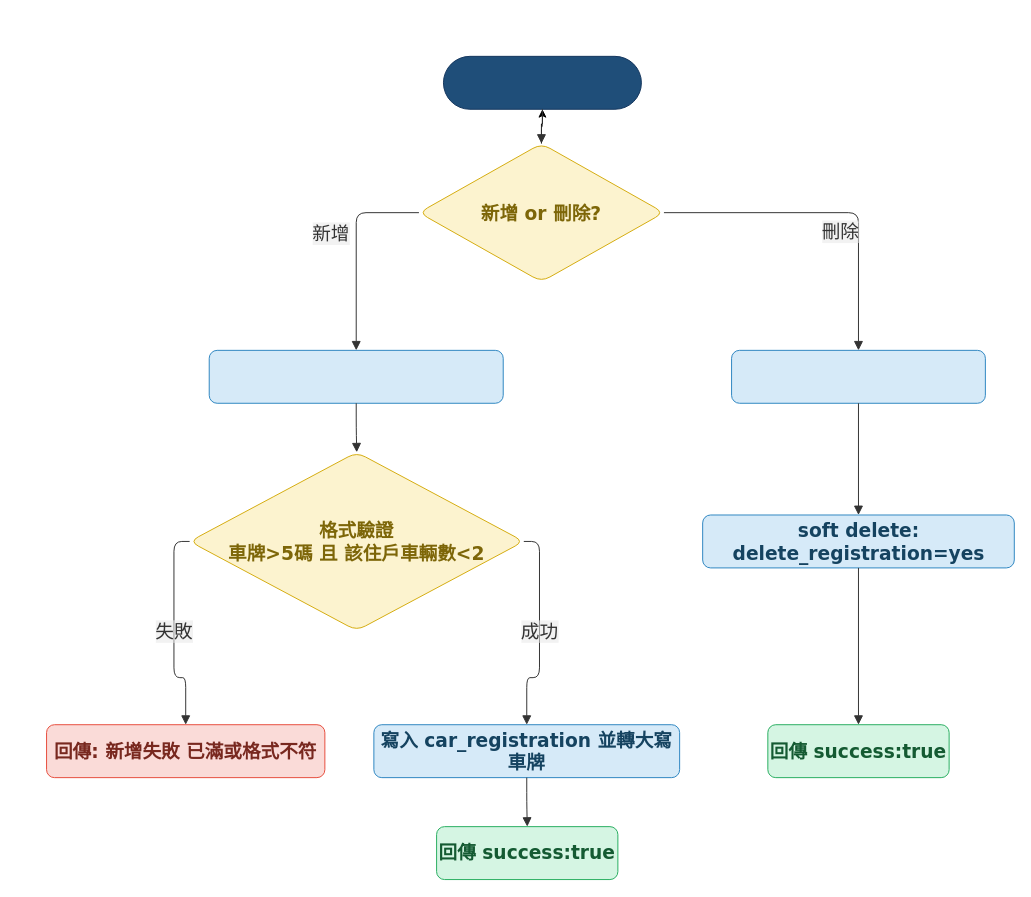
Some shapes in this 1031 by 897 pixel diagram are drawn without their labels. Here are the shapes that lost their labels. From the top down, the centre of each, then its label:
At point 541,82: "更新車籍 updatecar.html".
At point 355,376: "POST /hello/insertcarregistration".
At point 858,376: "GET /hello/delete/id/plate".
